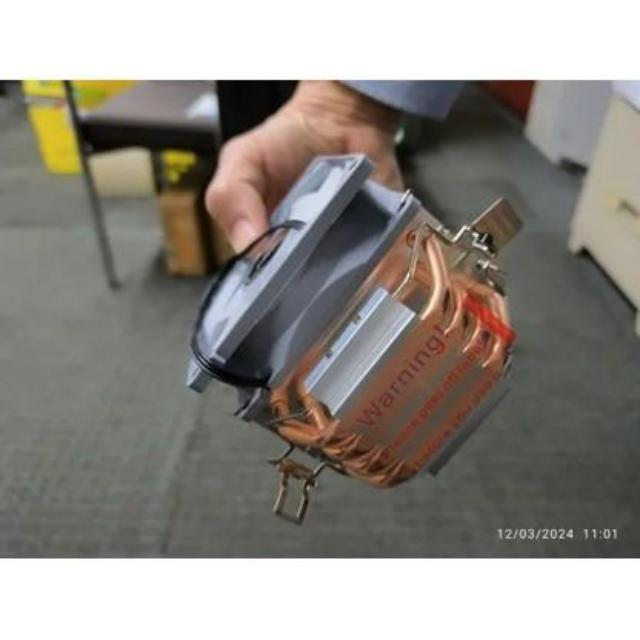CPU_Fan: (178, 150, 530, 521)
